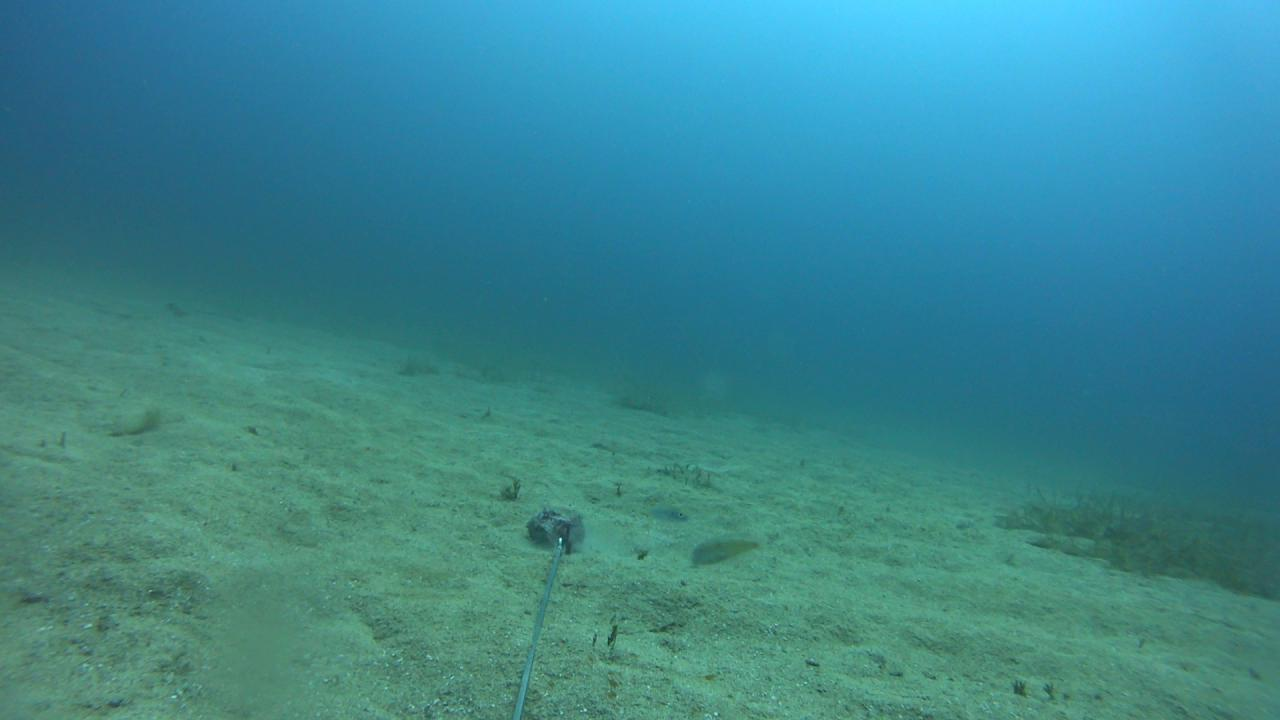dasyatis: (158, 298, 239, 318)
